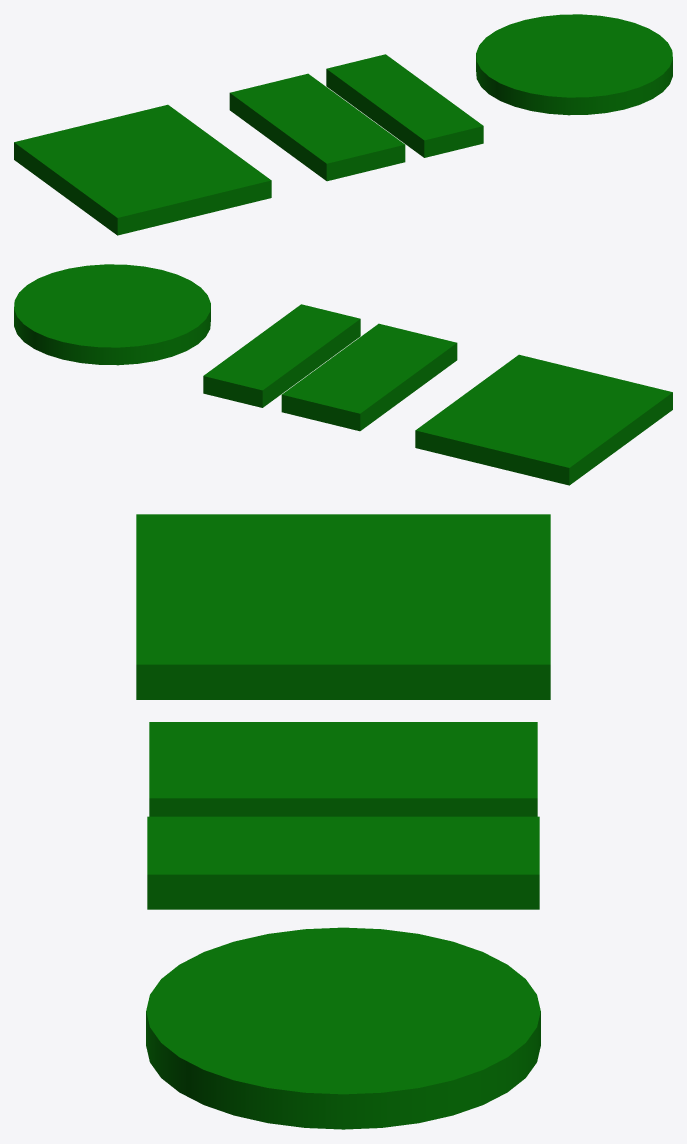
The model's file is Image-1710907574932-2280305637504_OBSTRUCTION_PEN300.fbx.
3 views of the same model, one above another, from view 1: azimuth 30°, elevation 25°; view 2: azimuth 150°, elevation 25°; view 3: azimuth 270°, elevation 25° (orthographic). The views are drawn at different scales.
Parts seen in each view (by area): view 1: BOX 3 of EQUIPMENT /OBSTRUCTION_PEN300, CYLINDER 1 of EQUIPMENT /OBSTRUCTION_PEN300, BOX 2 of EQUIPMENT /OBSTRUCTION_PEN300, BOX 1 of EQUIPMENT /OBSTRUCTION_PEN300; view 2: BOX 3 of EQUIPMENT /OBSTRUCTION_PEN300, CYLINDER 1 of EQUIPMENT /OBSTRUCTION_PEN300, BOX 2 of EQUIPMENT /OBSTRUCTION_PEN300, BOX 1 of EQUIPMENT /OBSTRUCTION_PEN300; view 3: BOX 3 of EQUIPMENT /OBSTRUCTION_PEN300, CYLINDER 1 of EQUIPMENT /OBSTRUCTION_PEN300, BOX 2 of EQUIPMENT /OBSTRUCTION_PEN300, BOX 1 of EQUIPMENT /OBSTRUCTION_PEN300.
Boxes of the visible parts, bbox=[...] form: BOX 3 of EQUIPMENT /OBSTRUCTION_PEN300: bbox=[14, 104, 271, 235]; CYLINDER 1 of EQUIPMENT /OBSTRUCTION_PEN300: bbox=[476, 14, 672, 115]; BOX 2 of EQUIPMENT /OBSTRUCTION_PEN300: bbox=[229, 73, 405, 181]; BOX 1 of EQUIPMENT /OBSTRUCTION_PEN300: bbox=[326, 54, 483, 157]; BOX 3 of EQUIPMENT /OBSTRUCTION_PEN300: bbox=[415, 354, 672, 485]; CYLINDER 1 of EQUIPMENT /OBSTRUCTION_PEN300: bbox=[14, 264, 210, 365]; BOX 2 of EQUIPMENT /OBSTRUCTION_PEN300: bbox=[281, 323, 457, 431]; BOX 1 of EQUIPMENT /OBSTRUCTION_PEN300: bbox=[203, 304, 360, 407]; BOX 3 of EQUIPMENT /OBSTRUCTION_PEN300: bbox=[136, 514, 550, 699]; CYLINDER 1 of EQUIPMENT /OBSTRUCTION_PEN300: bbox=[146, 927, 540, 1129]; BOX 2 of EQUIPMENT /OBSTRUCTION_PEN300: bbox=[149, 722, 537, 816]; BOX 1 of EQUIPMENT /OBSTRUCTION_PEN300: bbox=[147, 816, 539, 909].
Size of the model in its own units: 10.6 by 3.2 by 0.3.
